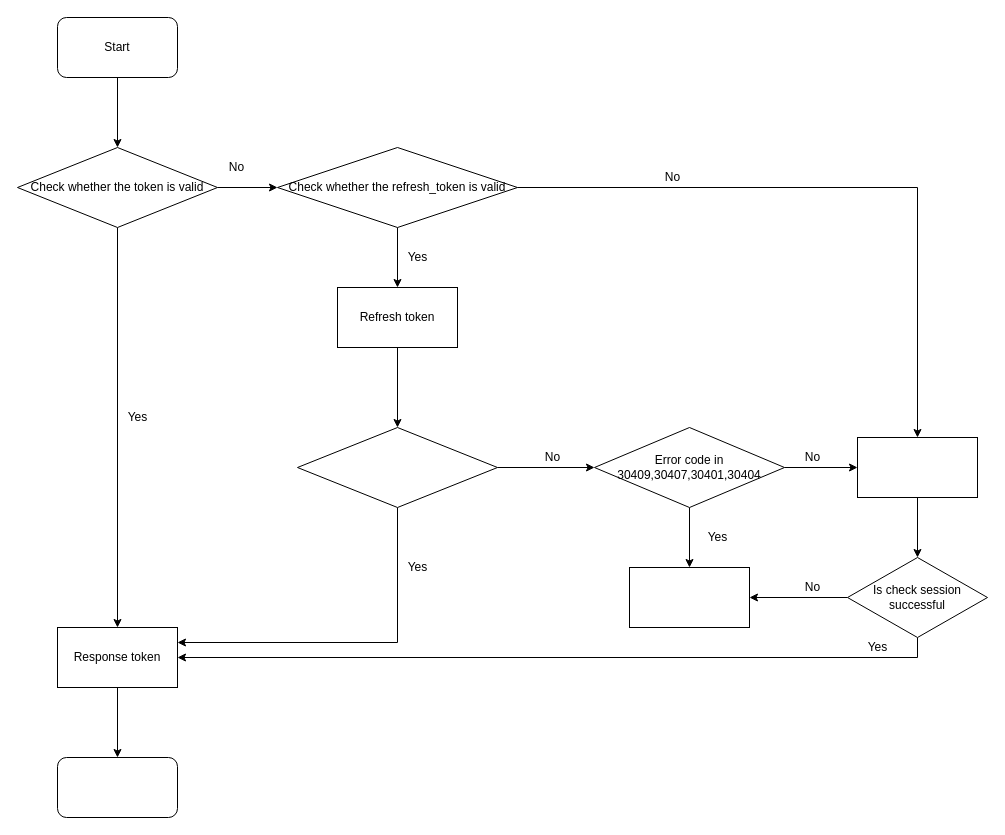
Some shapes in this 1005 by 835 pixel diagram are drawn without their labels. Each missing label, with the centre of its shape:
Check session: point (917, 467)
End: point (117, 787)
Is refresh token successful: point (397, 467)
Redirect to login page: point (689, 597)
